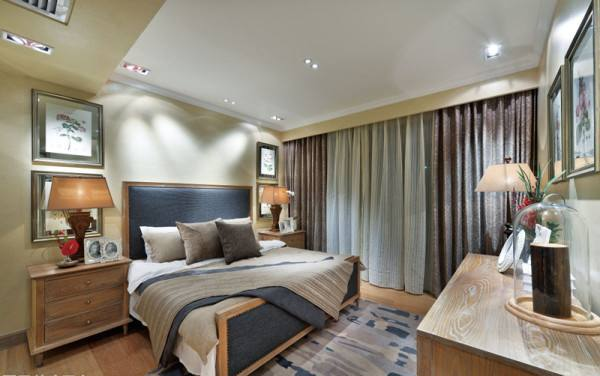床: (121, 245, 356, 372)
枕头: (137, 217, 262, 265)
灯: (48, 173, 112, 265), (478, 159, 536, 257), (258, 185, 295, 232), (482, 38, 504, 65), (123, 61, 153, 78), (304, 57, 323, 73), (223, 98, 238, 108), (271, 115, 286, 123)
